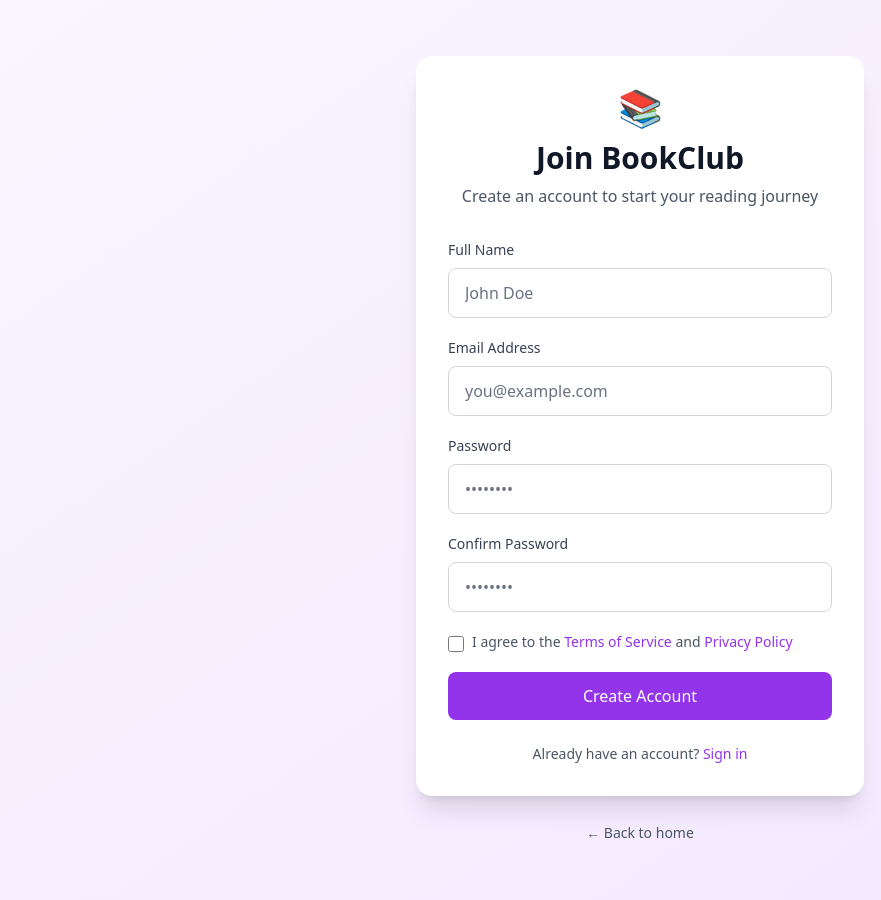
Test case: SignUpPage › shows validation error for short name
Type "A" into the field labelled "Full Name" at (640, 293), box [448,268,832,318]
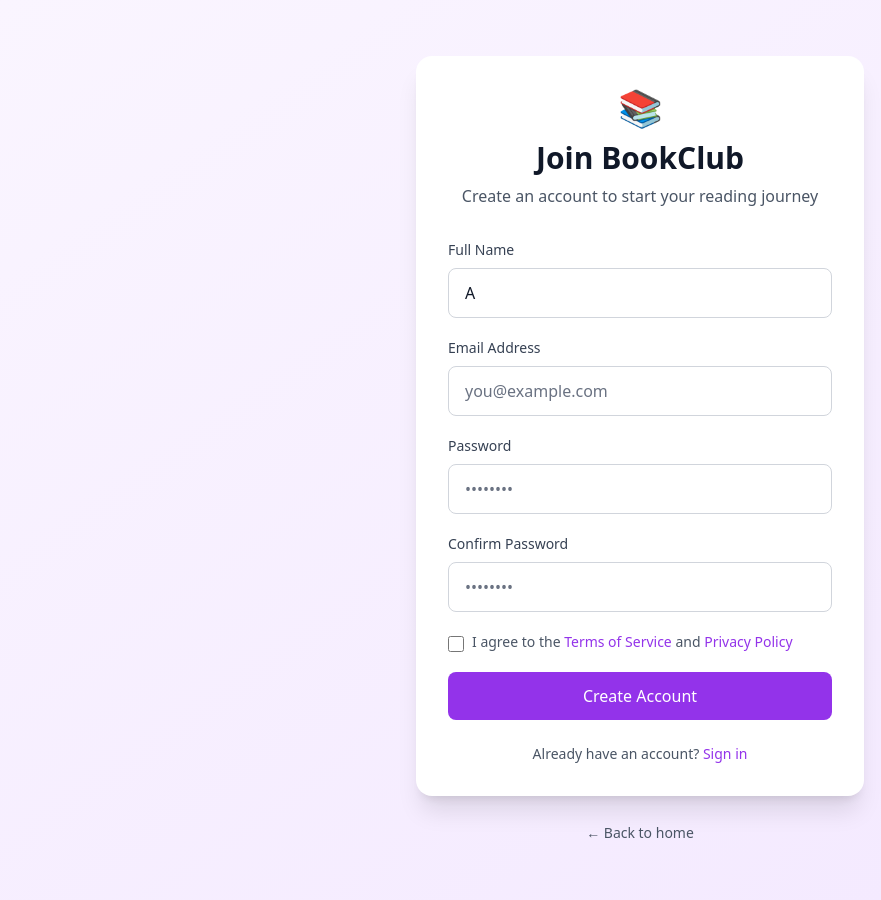
Submit the form, box [448,240,832,720]
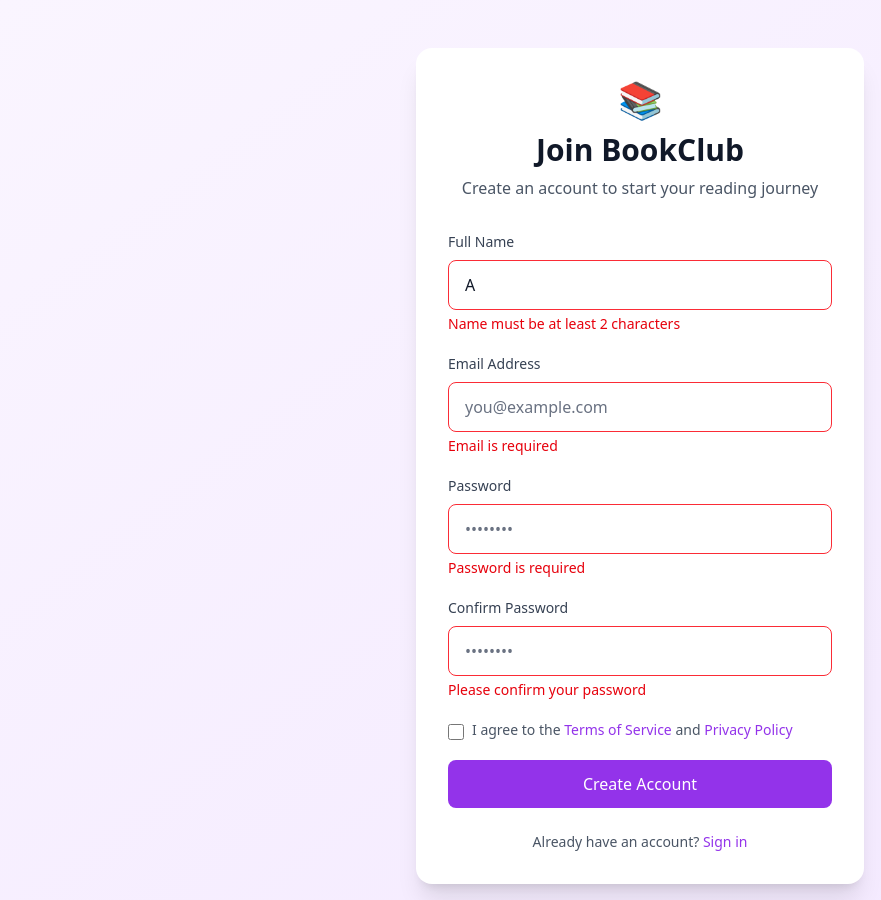
expect the text "Name must be at least 2 characters" is shown: met, box [448,314,680,333]
